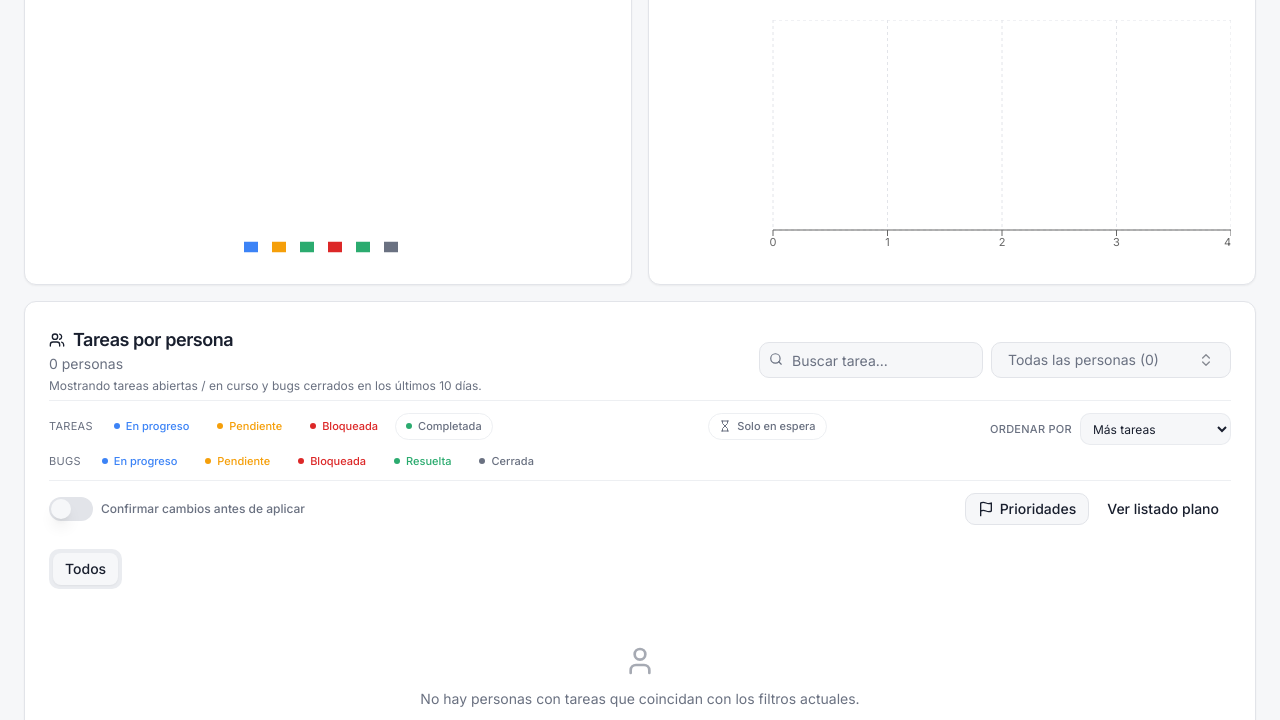
it: Tasks page — empty-state message updates as user types (debounced) › updates the message when typing a search-only query
The image size is (1280, 720).
(page scrolled)
Type "zzznomatchzzz1" into the field with placeholder "Buscar tarea..." at [871, 360], box [759, 342, 983, 378]
(page scrolled)
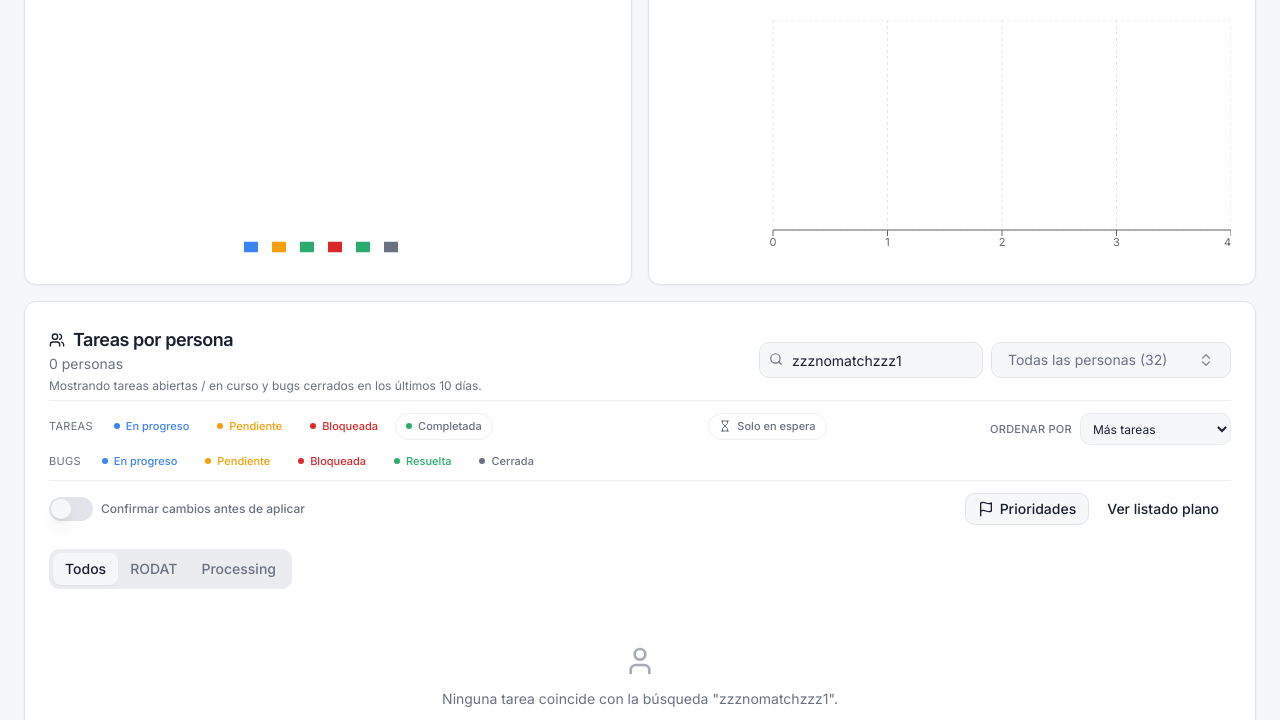
Replace the text in the field with placeholder "Buscar tarea..." with "zzznomatchzzz2" at [871, 360], box [759, 342, 983, 378]
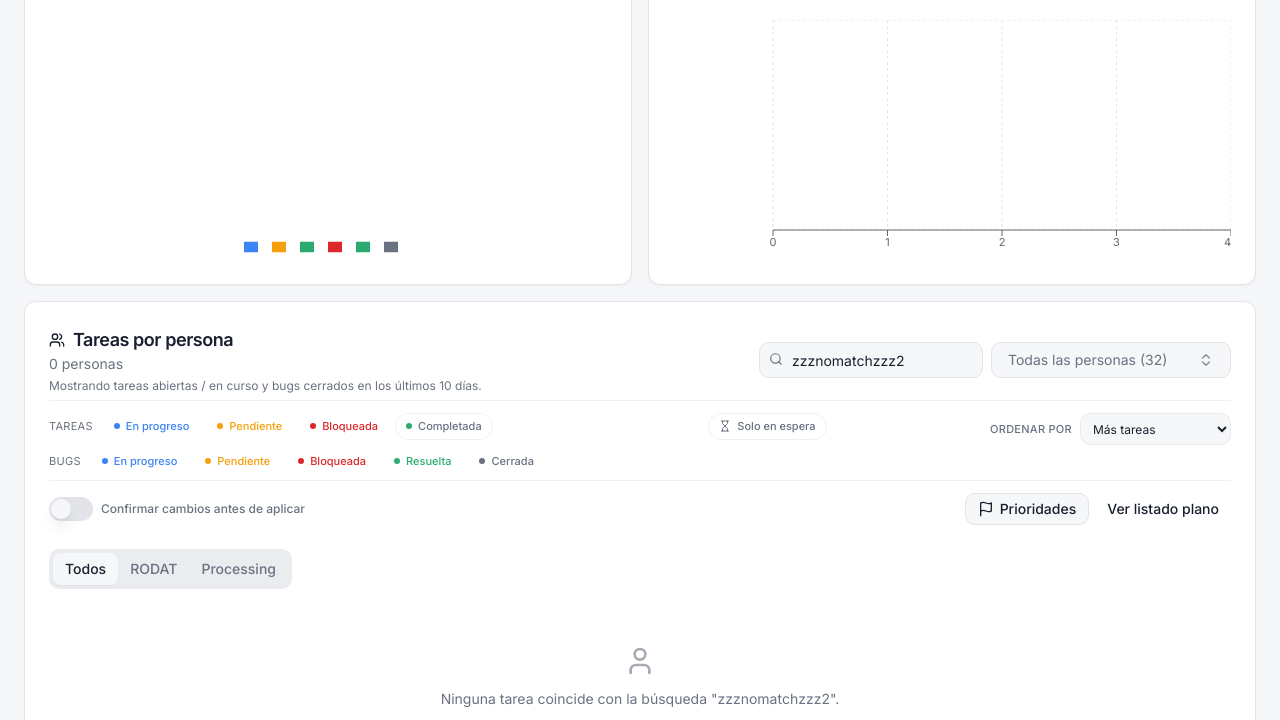
Check: the text "zzznomatchzzz1" is gone
